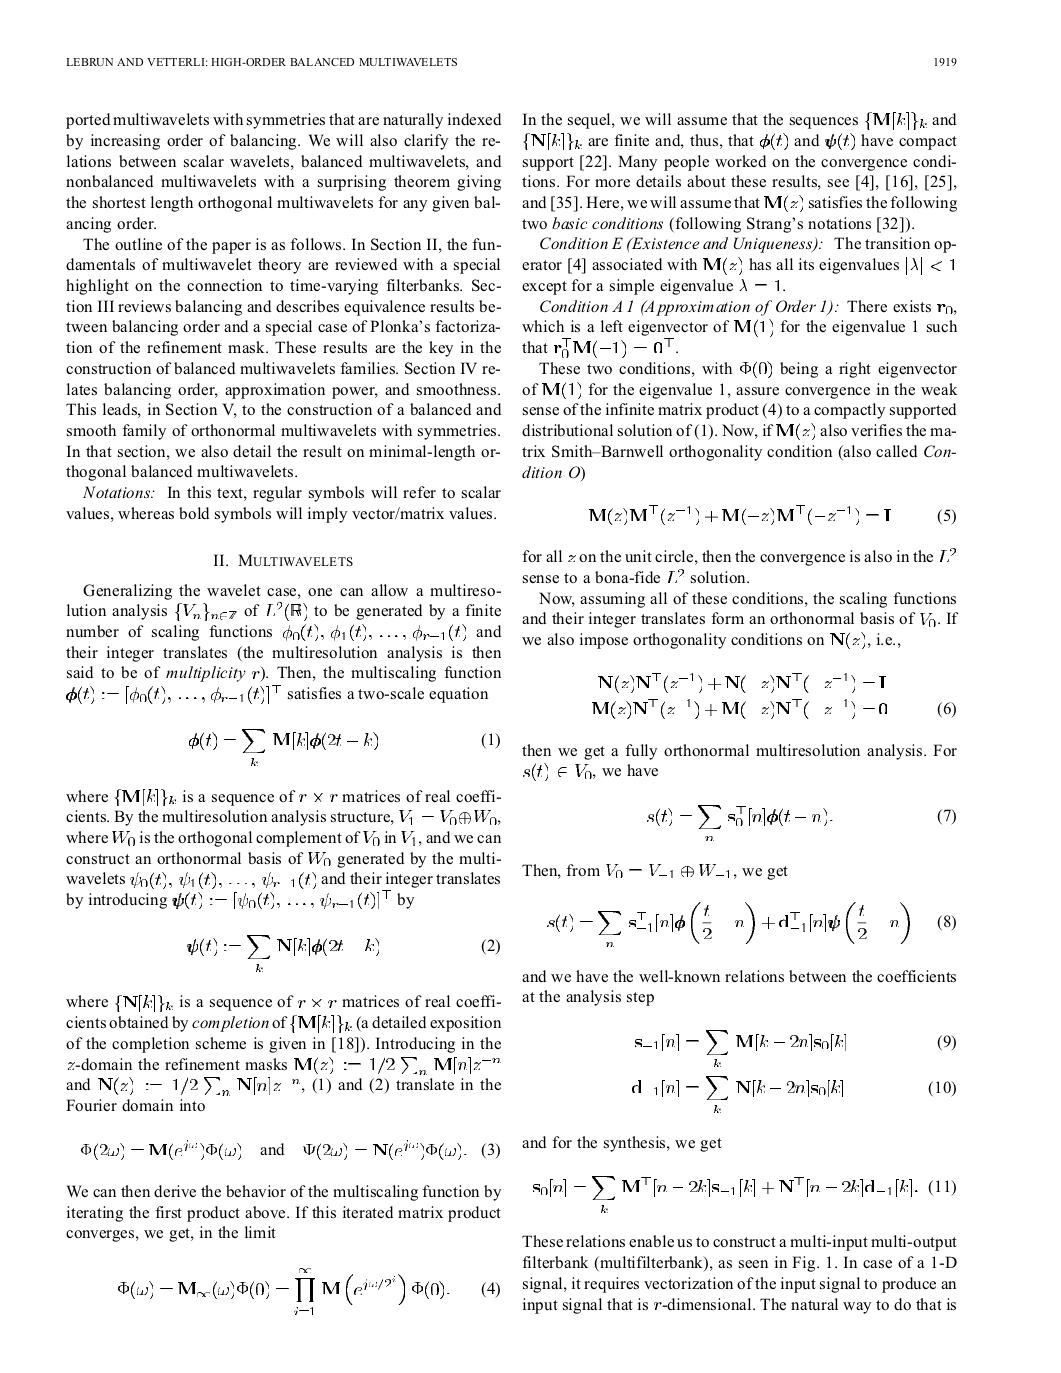formula: (547, 900, 955, 947), (118, 1267, 499, 1315), (533, 1176, 955, 1213), (635, 1030, 955, 1067), (632, 1077, 955, 1112), (187, 935, 499, 971), (189, 729, 499, 765), (81, 1139, 499, 1160), (648, 804, 955, 829), (588, 504, 955, 525), (592, 698, 955, 719), (598, 672, 885, 693)
